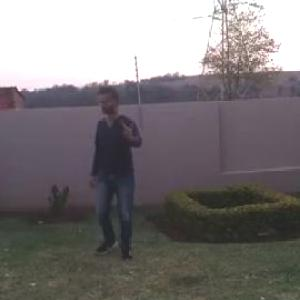takeoff-hand: (116, 116, 144, 146)
